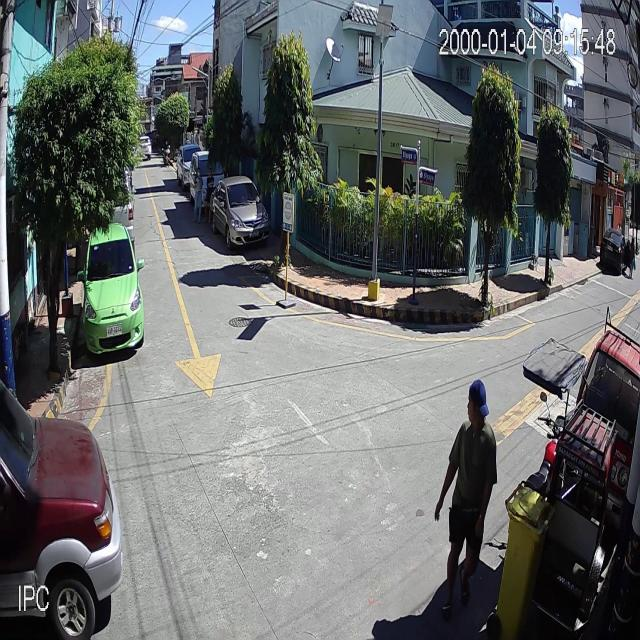walking: (434, 378, 496, 640)
